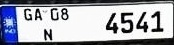character: (149, 10, 164, 33), (105, 11, 119, 35), (119, 11, 133, 34), (135, 11, 149, 33), (22, 7, 33, 21), (49, 6, 59, 21), (43, 26, 53, 41), (34, 7, 43, 22), (60, 7, 69, 21)
